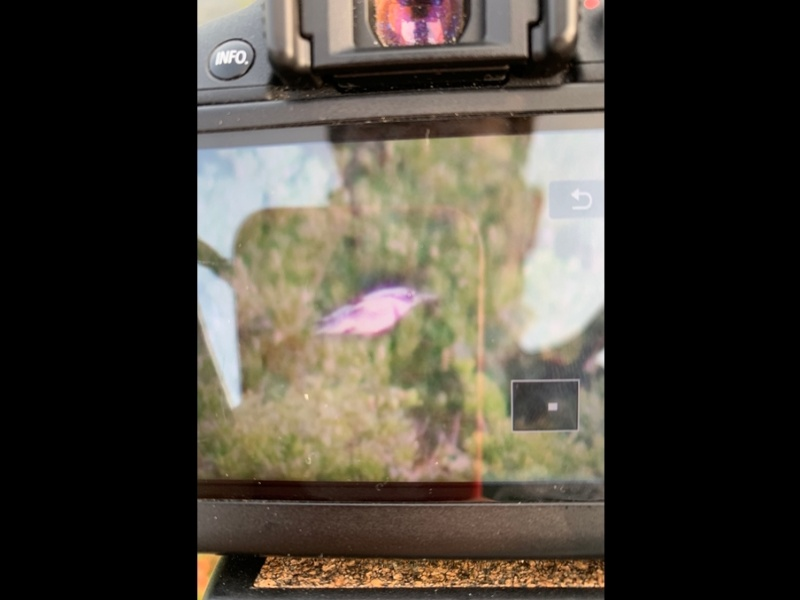kingfisher: (317, 283, 444, 341)
